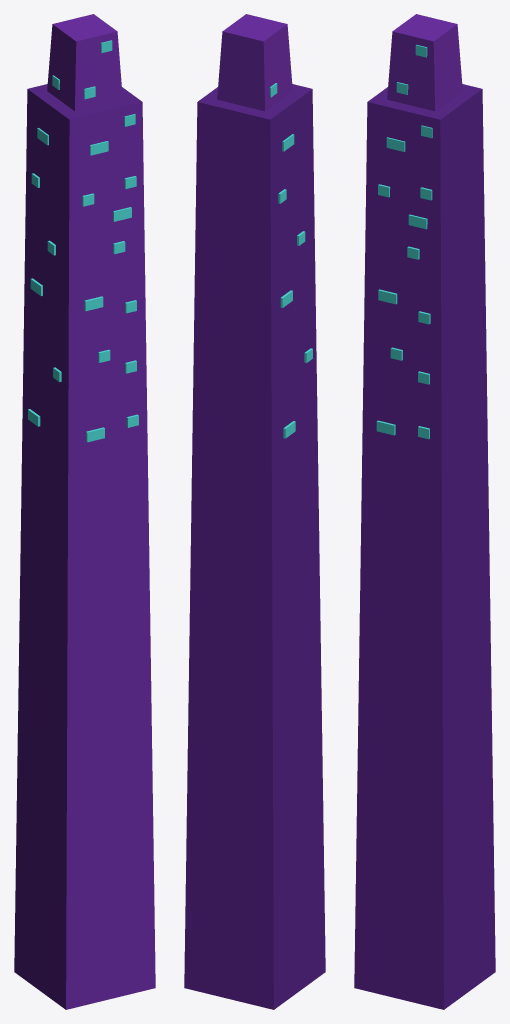
Rendered from Build_sci_fi_4.fbx.
3 renders of one model, left to right at view 1: azimuth 30°, elevation 25°; view 2: azimuth 150°, elevation 25°; view 3: azimuth 330°, elevation 25°, orthographic.
Parts seen in each view (by area): view 1: Build_sci_fi_4; view 2: Build_sci_fi_4; view 3: Build_sci_fi_4.
Part boxes in pixels (x1,y1,x2,y2): Build_sci_fi_4: [14, 14, 155, 1009]; Build_sci_fi_4: [184, 14, 325, 1009]; Build_sci_fi_4: [354, 14, 495, 1009].
Size of the model in its own units: 85.33 by 866 by 85.33.
